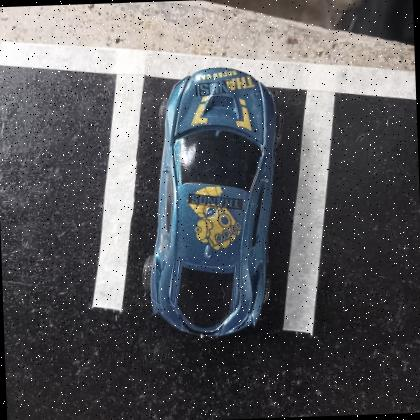Car: (138, 64, 288, 341)
